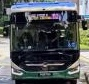bus: (51, 12, 59, 20)
